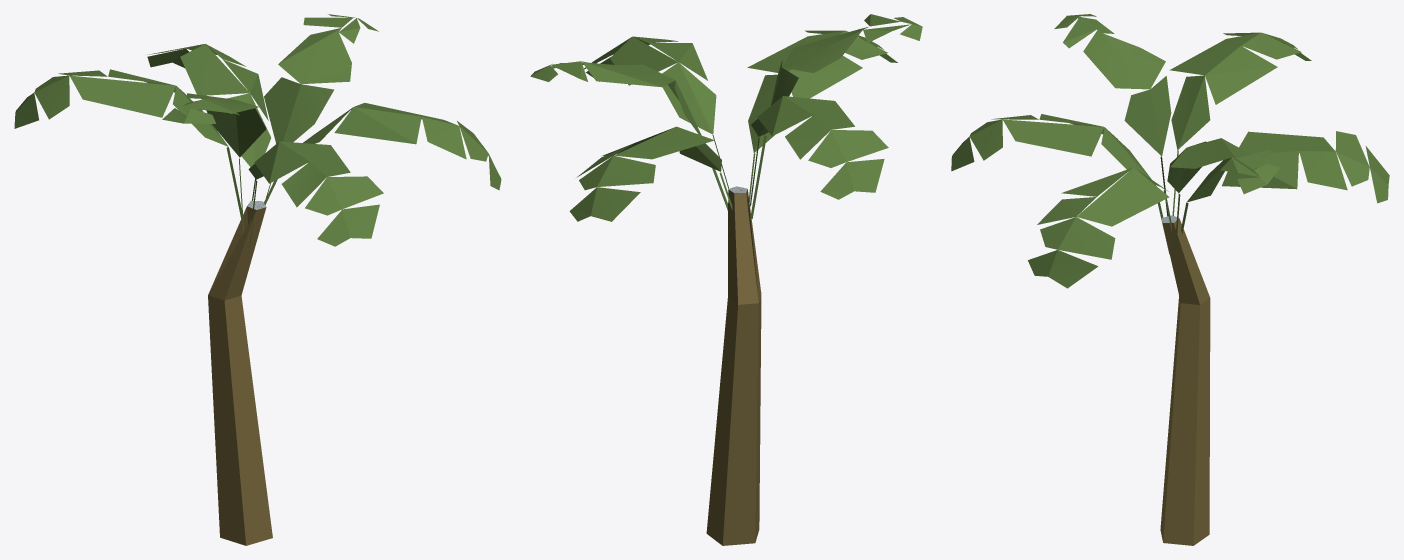
The model's file is Tree_Palm_03.fbx.
3 renders of one model, left to right at view 1: azimuth 30°, elevation 25°; view 2: azimuth 150°, elevation 25°; view 3: azimuth 270°, elevation 25°, orthographic. The views are drawn at different scales.
Parts seen in each view (by area): view 1: Model; view 2: Model; view 3: Model.
Boxes of the visible parts, x1,y1,x2,y2 form: Model: [14, 14, 501, 545]; Model: [530, 14, 922, 545]; Model: [951, 14, 1389, 545].
Size of the model in its own units: 488 by 605 by 513.
